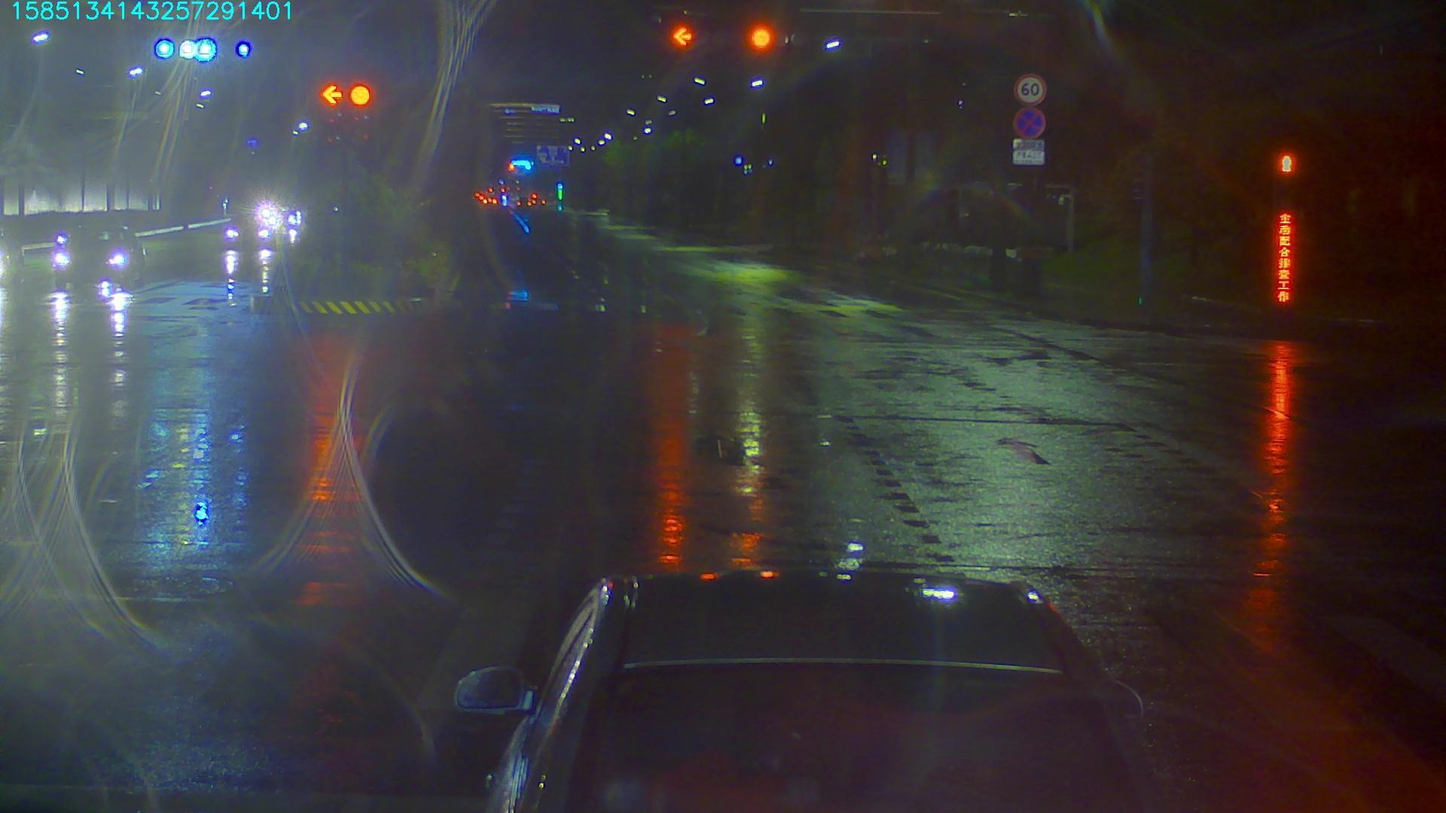red: (749, 26, 779, 67), (670, 17, 700, 51), (322, 76, 338, 105), (350, 84, 368, 108)
